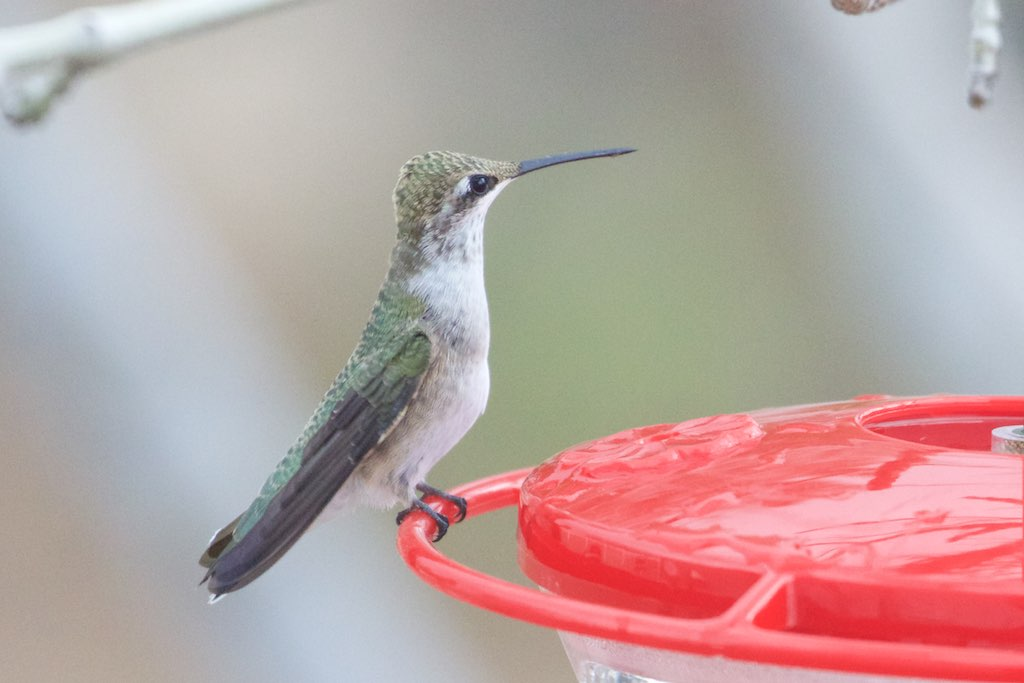archilochus alexandri: (197, 144, 637, 603)
